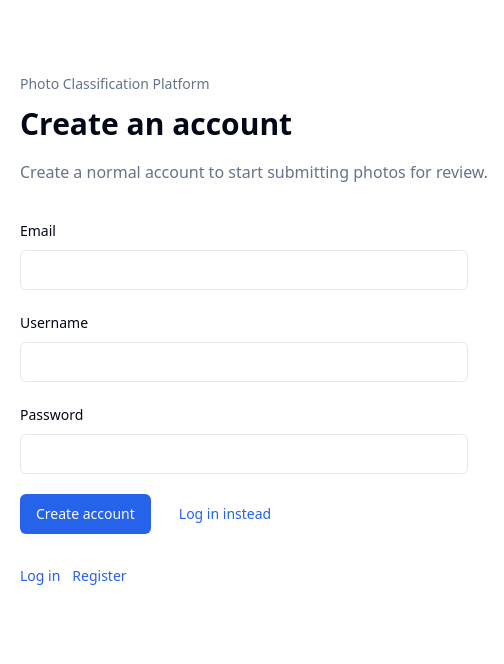
auth form accessibility › moves focus to the first invalid registration field
The width and height of the screenshot is (504, 664).
Click the button "Create account" at [85, 514], box x1=20 y1=494 x2=151 y2=534
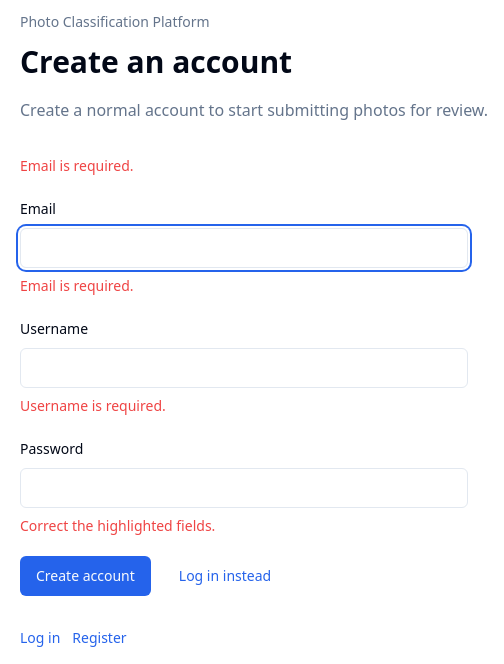
Expected: the message reads "Email is required.", x1=20 y1=156 x2=134 y2=175
